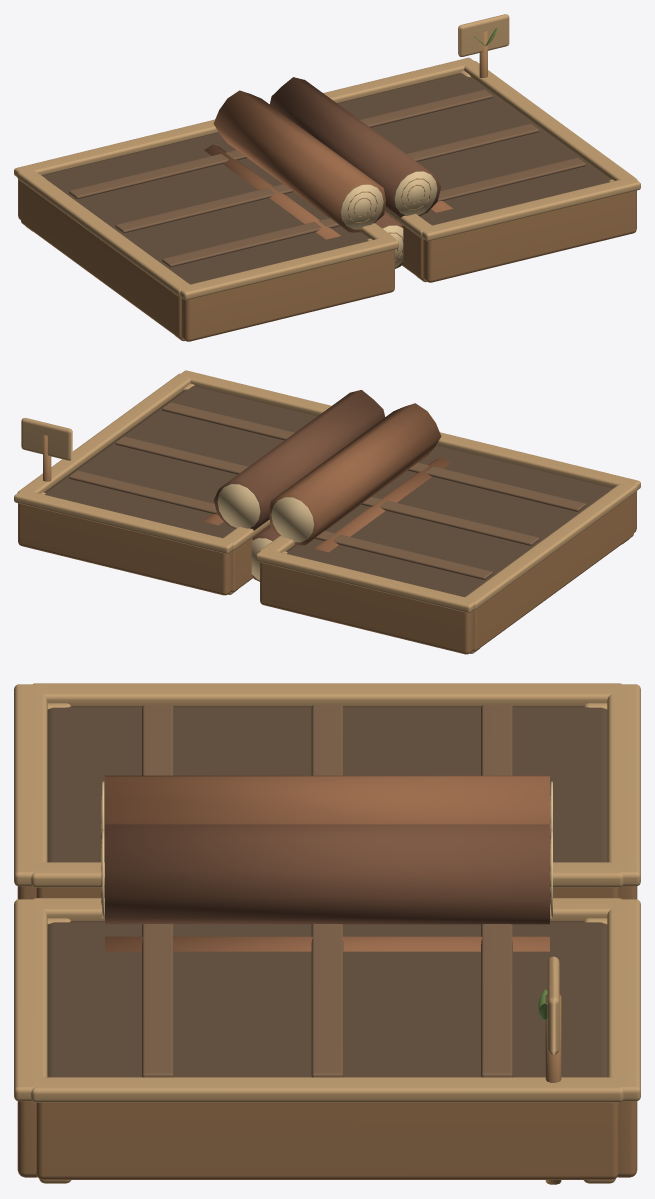
The model's file is cozy_harvest.glb.
The picture shows the model from 3 angles, top to bottom: view 1: azimuth 30°, elevation 25°; view 2: azimuth 150°, elevation 25°; view 3: azimuth 270°, elevation 25°; orthographic projection. The views are drawn at different scales.
Visible parts, largest first — view 1: GardenBeds_Soil, GardenBeds_Timber, GardenBeds_TimberLight, WoodPile_BarkLight, GardenBeds_SoilLight, WoodPile_Bark, WoodPile_EndGrain; view 2: GardenBeds_Soil, GardenBeds_Timber, GardenBeds_TimberLight, WoodPile_BarkLight, GardenBeds_SoilLight, WoodPile_Bark, WoodPile_EndGrain; view 3: GardenBeds_Soil, GardenBeds_TimberLight, GardenBeds_Timber, WoodPile_Bark, WoodPile_BarkLight, GardenBeds_SoilLight, WoodPile_EndGrain.
Part boxes in pixels (box(x1,y1,x2,y2)): GardenBeds_Soil: box(42, 73, 609, 284); GardenBeds_Timber: box(18, 31, 636, 341); GardenBeds_TimberLight: box(14, 14, 640, 341); WoodPile_BarkLight: box(204, 90, 452, 239); GardenBeds_SoilLight: box(69, 89, 585, 267); WoodPile_Bark: box(269, 77, 441, 268); WoodPile_EndGrain: box(340, 171, 437, 267); GardenBeds_Soil: box(44, 386, 613, 596); GardenBeds_Timber: box(18, 435, 636, 654); GardenBeds_TimberLight: box(14, 370, 640, 653); WoodPile_BarkLight: box(202, 403, 450, 552); GardenBeds_SoilLight: box(69, 402, 585, 579); WoodPile_Bark: box(214, 390, 384, 581); WoodPile_EndGrain: box(217, 484, 314, 580); GardenBeds_Soil: box(47, 706, 607, 1077); GardenBeds_TimberLight: box(14, 683, 640, 1183); GardenBeds_Timber: box(17, 886, 637, 1184); WoodPile_Bark: box(105, 824, 549, 924); WoodPile_BarkLight: box(105, 775, 549, 951); GardenBeds_SoilLight: box(142, 705, 512, 1077); WoodPile_EndGrain: box(102, 781, 552, 918).
Size of the model in its own units: 2.82 by 0.7567 by 1.77.
